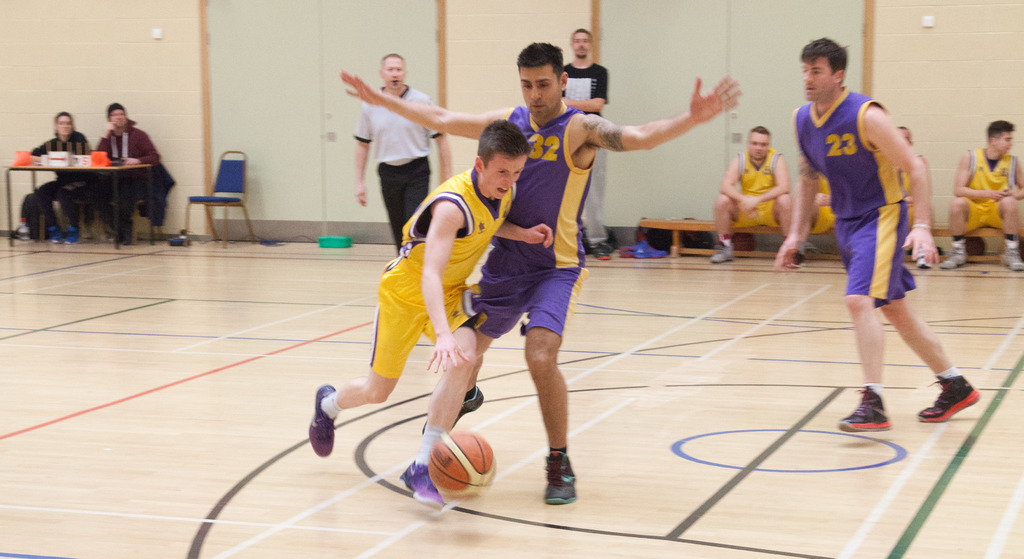Ball: (427, 432, 500, 501)
